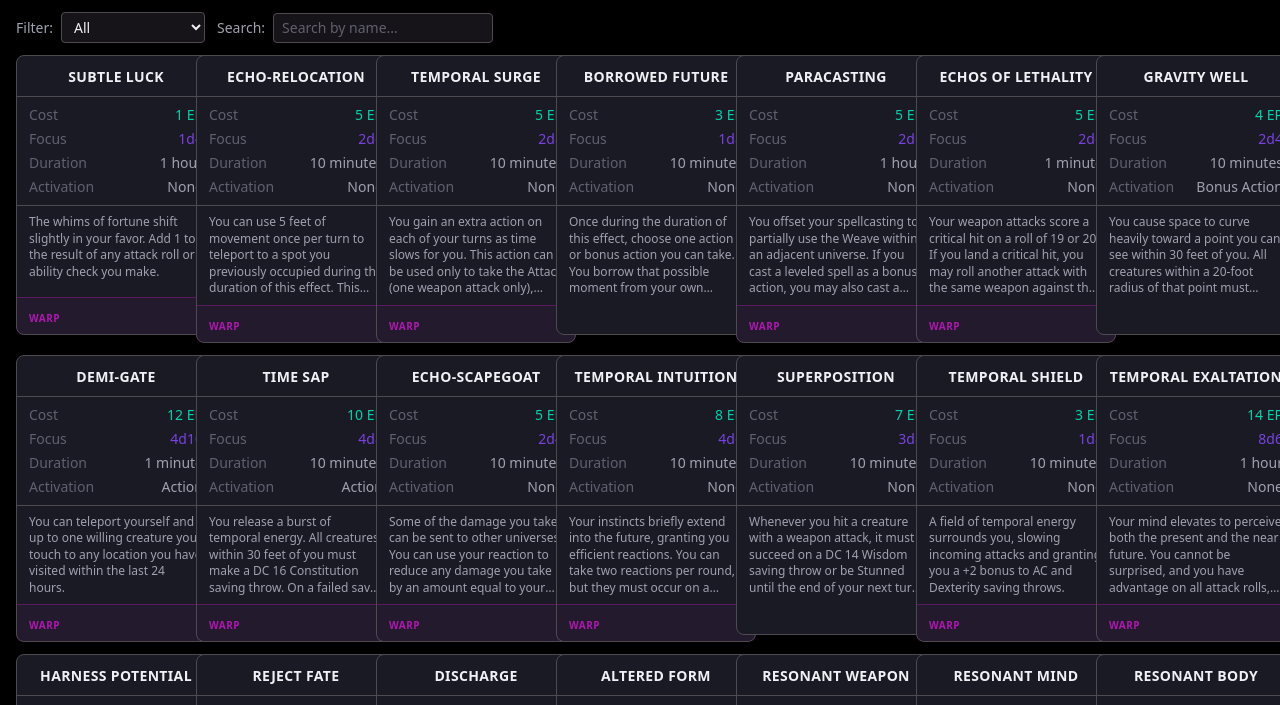
Test case: CollectionGrid › combined filter + search works
Select "buff" in the dropdown named "Filter by tag" at coordinates (133, 28), box [61,12,205,43]
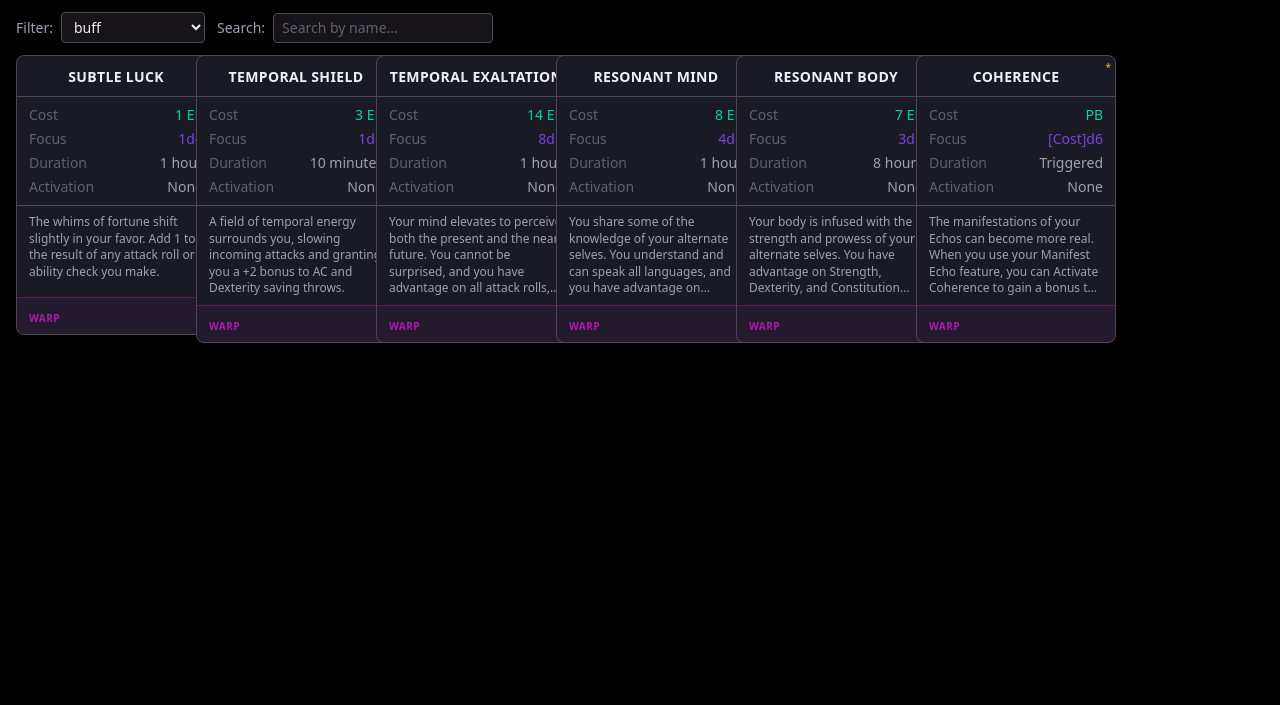
Type "subtle" into the field named "Search by name" at coordinates (383, 28), box [273,12,493,42]
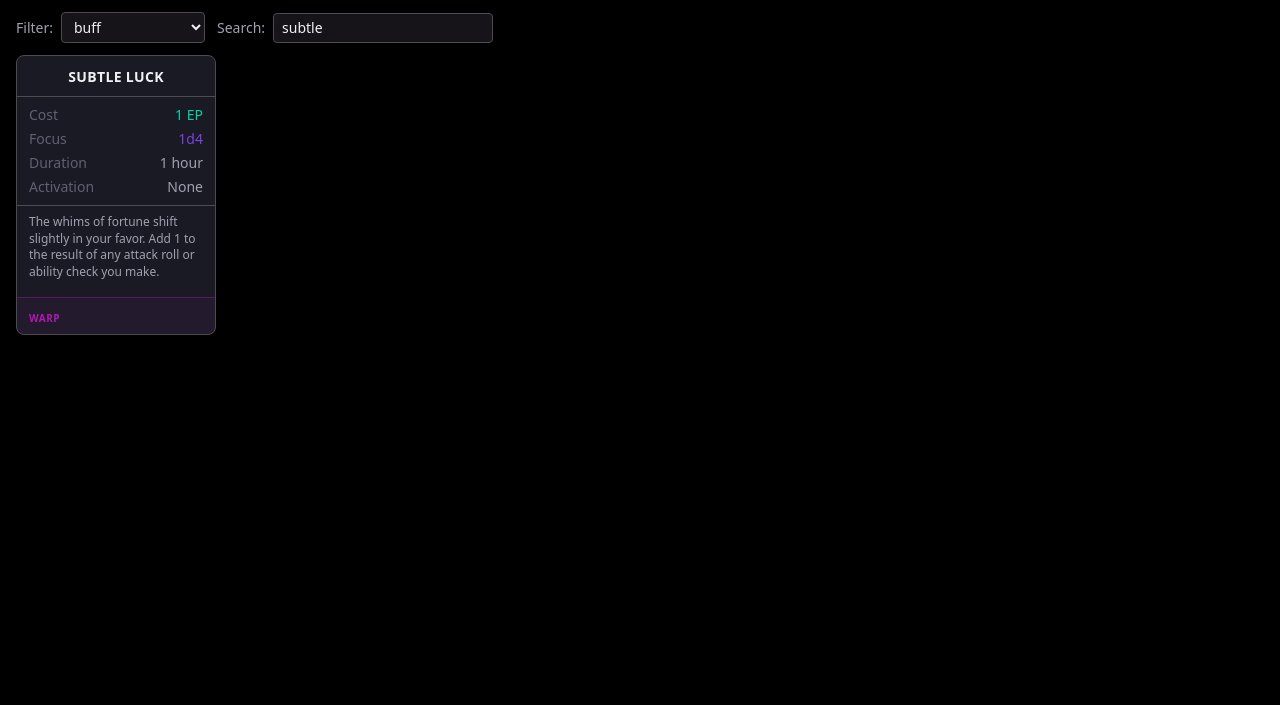
Expected: the text "Subtle Luck" is shown, [68,67,164,86]
Expected: the number of buttons is 1, [16,55,216,335]
